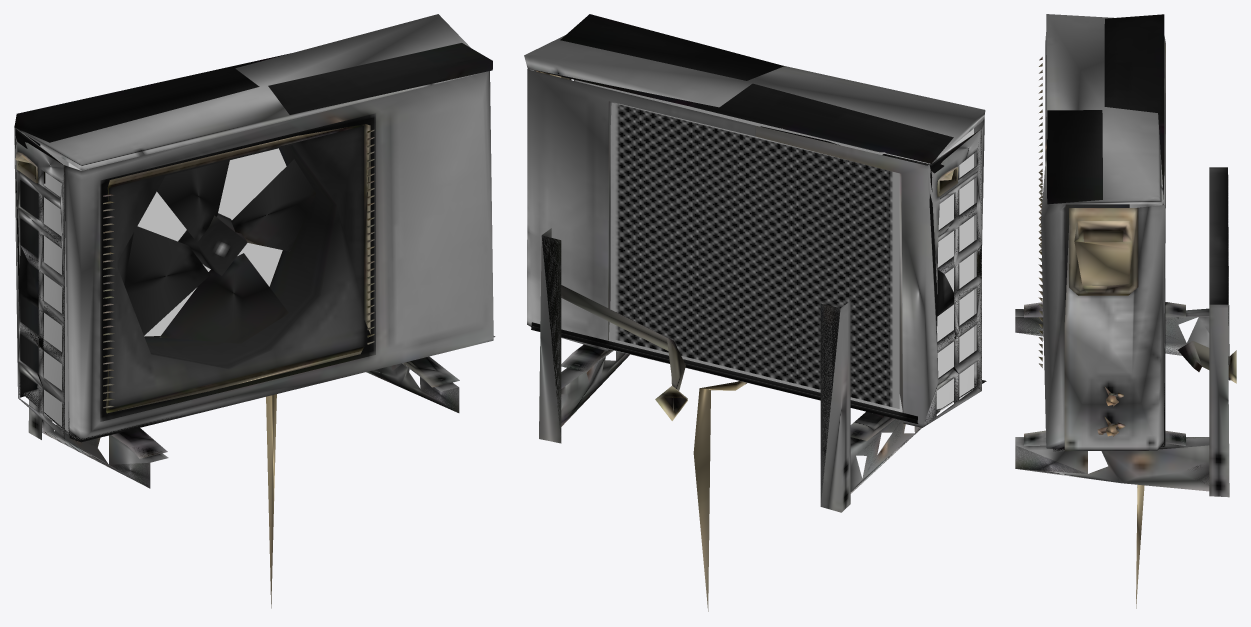
The model's file is exterior_aircon_unit.glb.
The picture shows the model from 3 angles, left to right: view 1: azimuth 30°, elevation 25°; view 2: azimuth 150°, elevation 25°; view 3: azimuth 270°, elevation 25°; orthographic projection. The views are drawn at different scales.
Parts seen in each view (by area): view 1: exterior_aircon_unit; view 2: exterior_aircon_unit; view 3: exterior_aircon_unit.
Part boxes in pixels (box(x1,y1,x2,y2)): exterior_aircon_unit: box(14, 14, 495, 608); exterior_aircon_unit: box(524, 14, 986, 611); exterior_aircon_unit: box(1015, 14, 1236, 608).
Bounding box in the file's own units: 0.7961 × 0.9214 × 0.3742.
2 materials, 2 textured.
